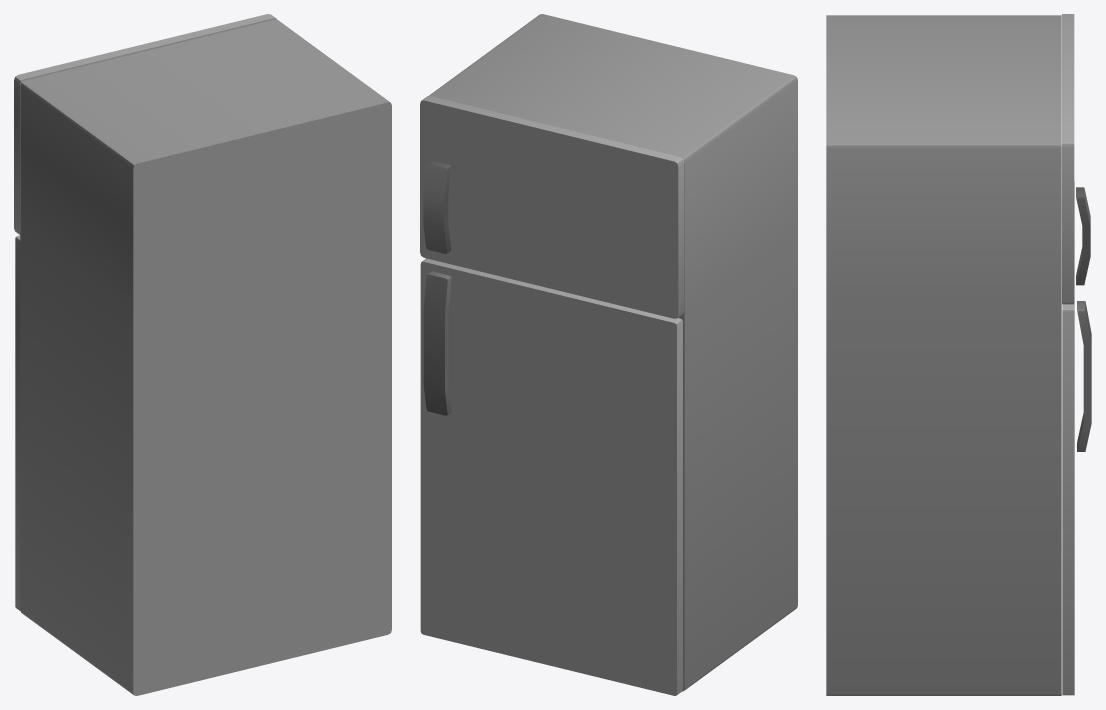
The model's file is Fridge_01.fbx.
3 views of the same model, side by side, from view 1: azimuth 30°, elevation 25°; view 2: azimuth 150°, elevation 25°; view 3: azimuth 270°, elevation 25° (orthographic). The views are drawn at different scales.
Visible parts, largest first — view 1: Fridge_01, Fridge_01_Door1, Fridge_01_Door2; view 2: Fridge_01_Door2, Fridge_01, Fridge_01_Door1; view 3: Fridge_01, Fridge_01_Door2, Fridge_01_Door1.
Boxes of the visible parts, x1=… form: Fridge_01: x1=20, y1=19, x2=391, y2=695; Fridge_01_Door1: x1=14, y1=14, x2=276, y2=234; Fridge_01_Door2: x1=15, y1=235, x2=20, y2=610; Fridge_01_Door2: x1=420, y1=258, x2=682, y2=695; Fridge_01: x1=428, y1=14, x2=797, y2=691; Fridge_01_Door1: x1=420, y1=96, x2=684, y2=318; Fridge_01: x1=826, y1=15, x2=1061, y2=695; Fridge_01_Door2: x1=1062, y1=181, x2=1091, y2=695; Fridge_01_Door1: x1=1062, y1=14, x2=1090, y2=304.
Bounding box in the file's own units: 102 × 200 × 86.98.
